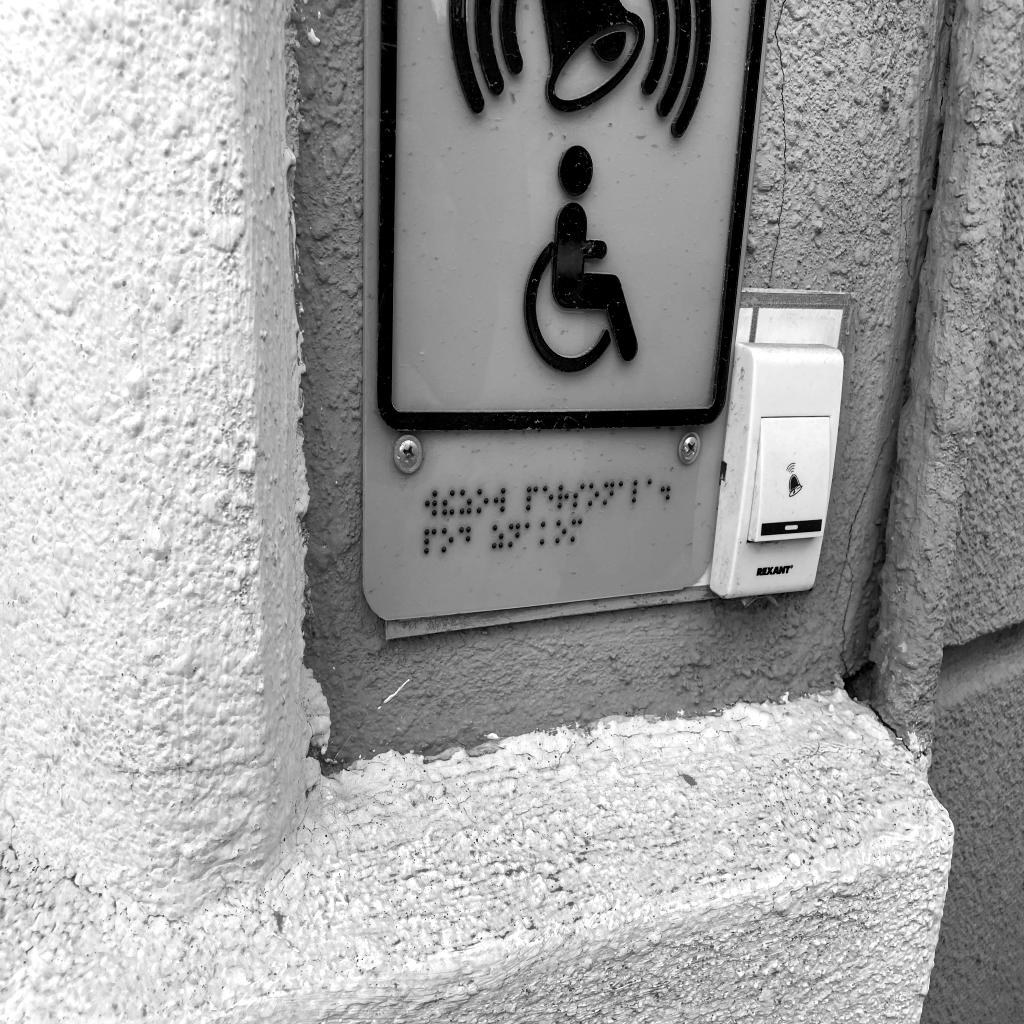_n: (508, 521, 521, 548), (603, 481, 615, 506)
a: (618, 480, 630, 505), (647, 478, 658, 503), (524, 522, 535, 546)
d: (459, 525, 471, 552)
e: (543, 485, 553, 510)
ii: (442, 489, 455, 515)
k: (540, 521, 552, 546)
l: (632, 479, 645, 503)
m: (571, 517, 583, 543)
o: (477, 488, 489, 514), (588, 482, 600, 507), (442, 528, 454, 553), (555, 520, 567, 545)
p: (424, 529, 436, 555), (526, 486, 538, 511)
r: (558, 485, 569, 509)
s: (573, 483, 585, 508)
tochka: (660, 478, 671, 501)
v: (425, 489, 438, 516), (494, 488, 506, 512)
z: (459, 490, 472, 515), (492, 524, 504, 550)
